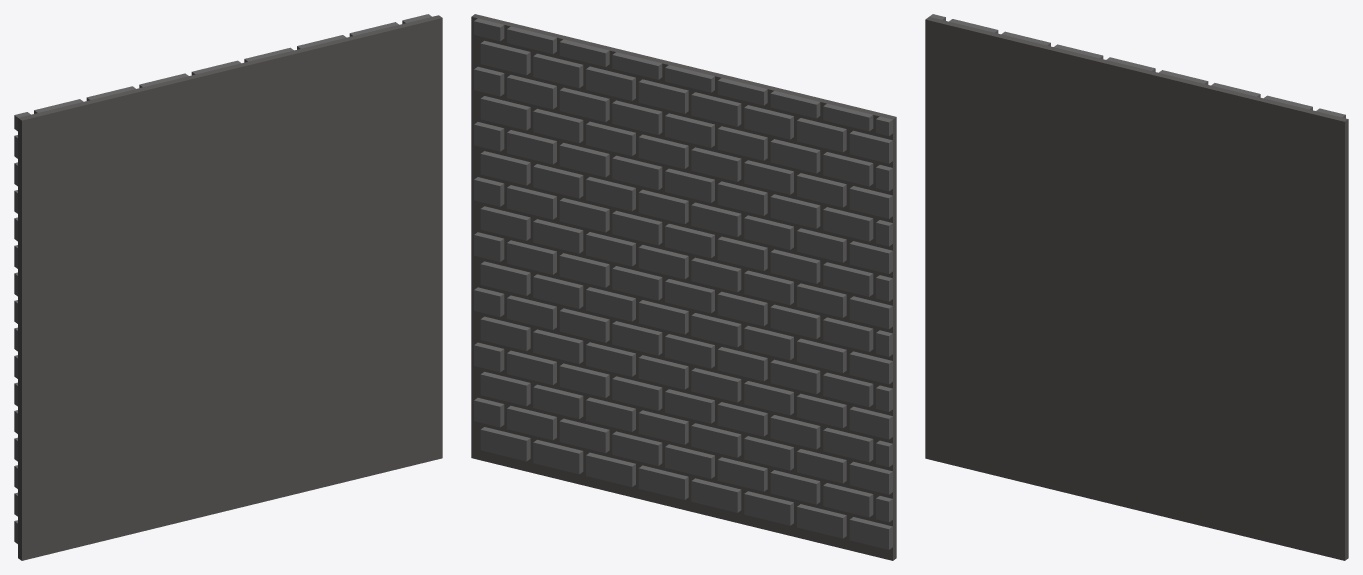
File: MapFinalV1-48.obj
3 renders of one model, left to right at view 1: azimuth 30°, elevation 25°; view 2: azimuth 150°, elevation 25°; view 3: azimuth 330°, elevation 25°, orthographic.
Size of the model in its own units: 6.4 by 6.4 by 0.2.
1 material, 1 textured.
